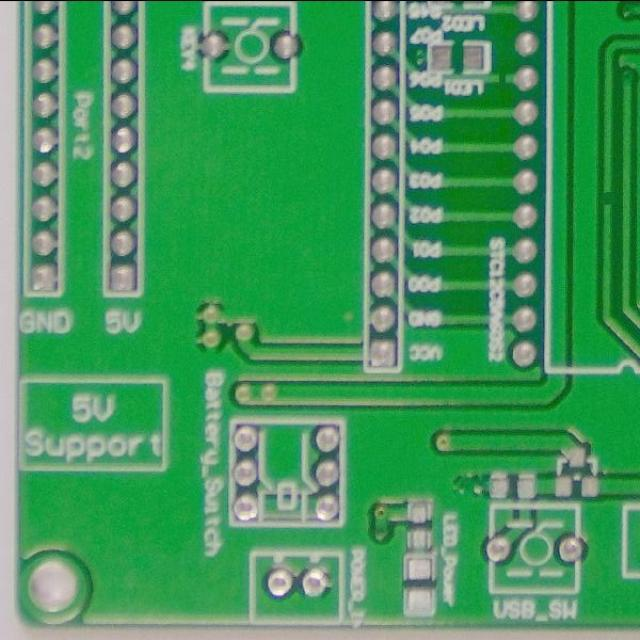open_circuit: (600, 189, 616, 209), (493, 70, 512, 86)
